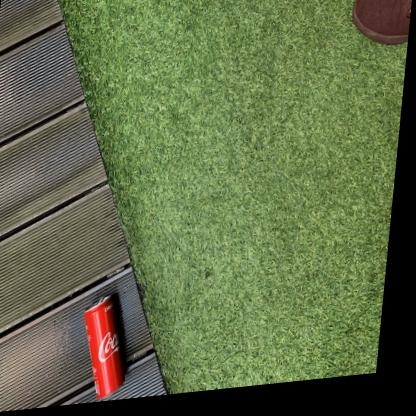trash: (84, 296, 124, 398)
